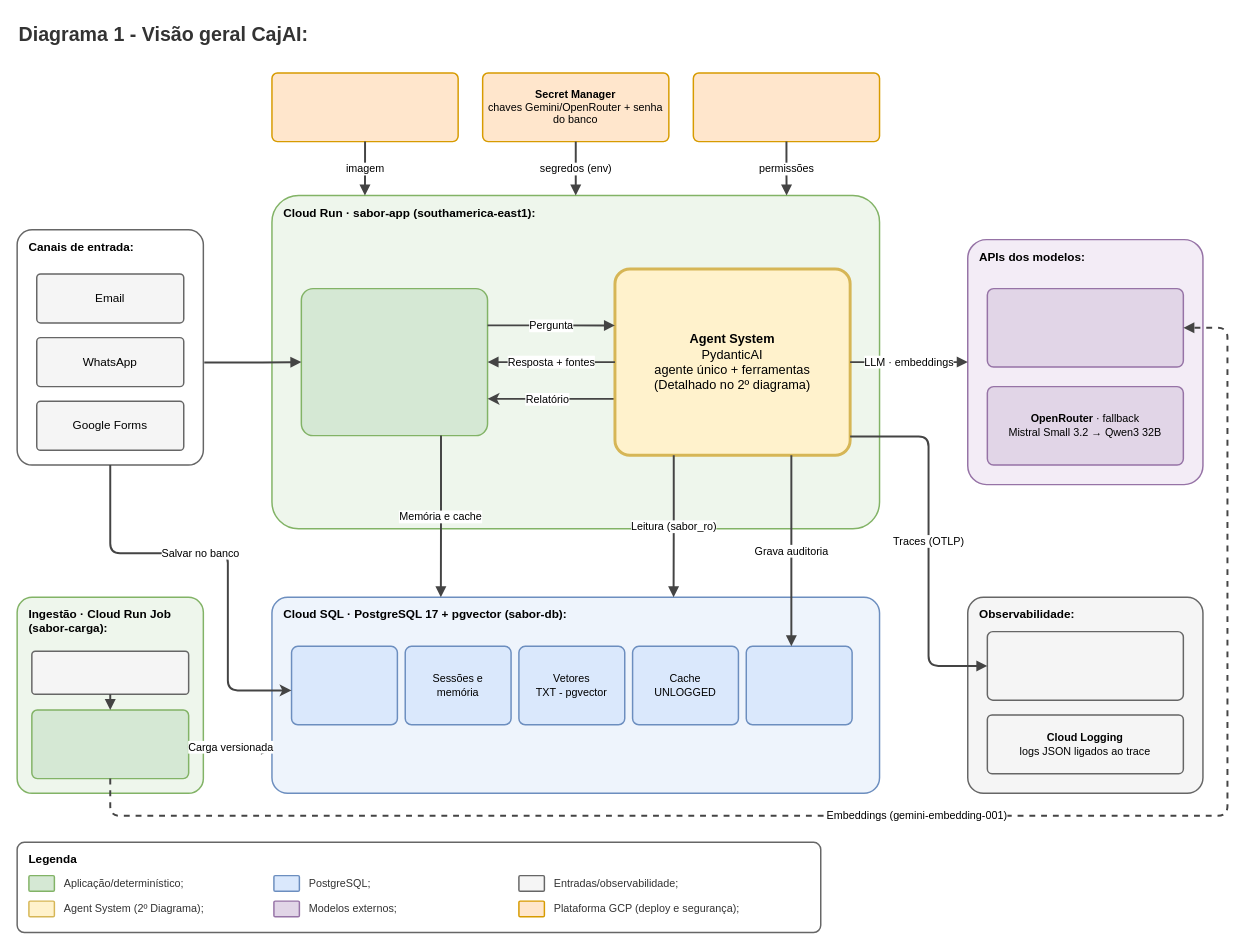
The diagram is 1253 pixels wide and 950 high, and some of its shapes have lost their labels. The centre of each missing label's shape, as x and y in pixels:
Artifact Registry imagem Docker do app e do job: point 364,107
Auditoria por mensagem + trace_id: point 798,685
Cloud Trace span por turno: modelo, tokens, latência, tools: point 1085,665
CSV, JSON, TXT: point 110,672
Google AI Studio Gemini 3.5 Flash-Lite + embeddings · primário: point 1085,327
IAM service account sabor-run serviço privado (proxy ou IAP): point 786,107
Interface Streamlit Trava de turno por sessão Exibe resposta, fontes e rascunhos: point 394,361
Pipeline de carga init_db · ETL · ingest_docs hash SHA-256: point 110,744
Tabelas operacionais CSV/JSON: point 344,685
